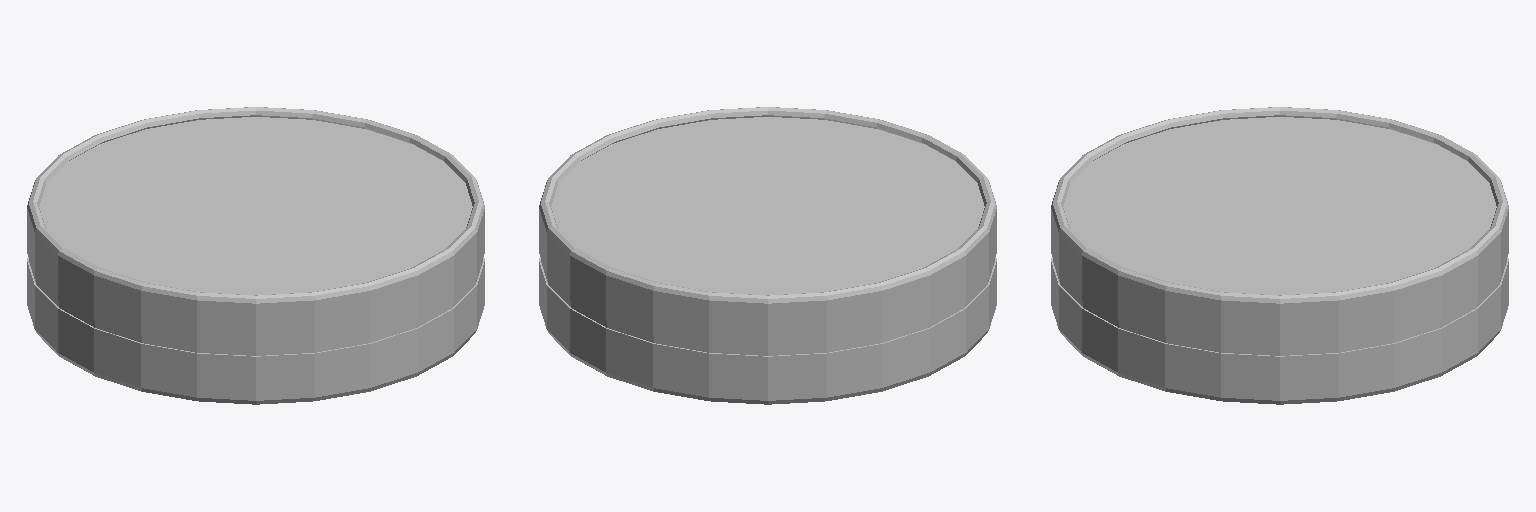
File: jewelry-box-009.obj
3 renders of one model, left to right at view 1: azimuth 30°, elevation 25°; view 2: azimuth 150°, elevation 25°; view 3: azimuth 270°, elevation 25°, orthographic.
Parts seen in each view (by area): view 1: cap, box; view 2: cap, box; view 3: cap, box.
Boxes of the visible parts, x1,y1,x2,y2 form: cap: [27, 107, 484, 348]; box: [27, 257, 484, 404]; cap: [539, 107, 996, 348]; box: [539, 257, 996, 404]; cap: [1051, 107, 1508, 348]; box: [1051, 257, 1508, 404].
Bounding box in the file's own units: 0.19 × 0.05 × 0.19.